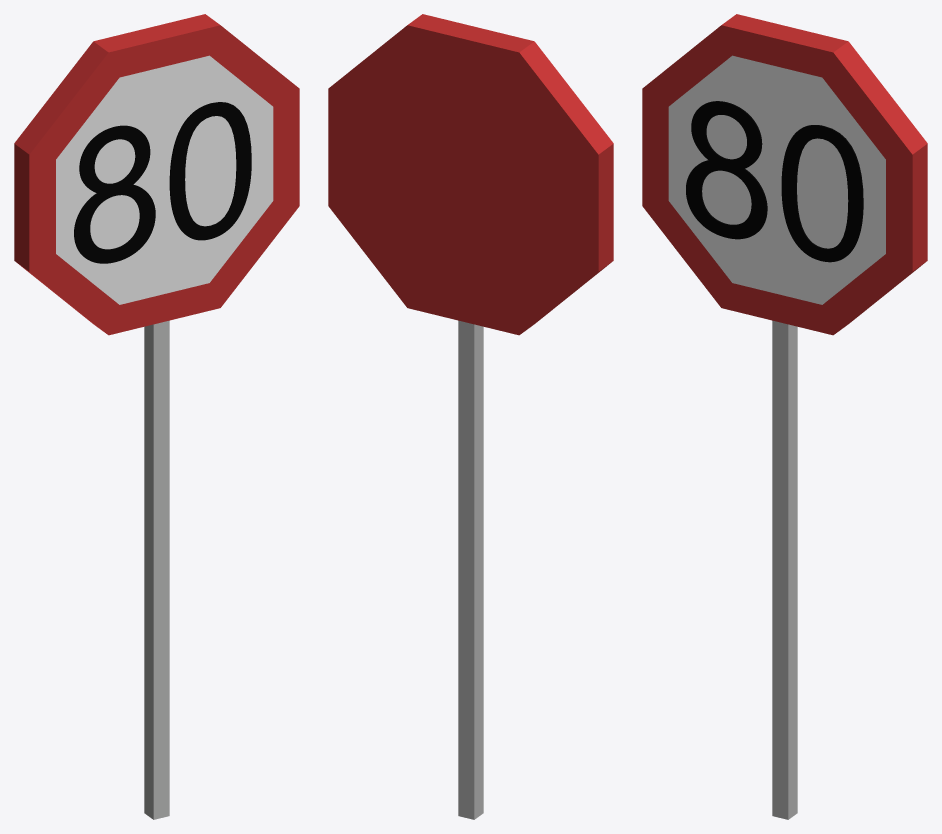
File: 80_speed_sign.fbx
3 renders of one model, left to right at view 1: azimuth 30°, elevation 25°; view 2: azimuth 150°, elevation 25°; view 3: azimuth 330°, elevation 25°, orthographic.
Visible parts, largest first — view 1: 80_speed_sign; view 2: 80_speed_sign; view 3: 80_speed_sign.
Boxes of the visible parts, x1,y1,x2,y2 form: 80_speed_sign: [14, 14, 299, 819]; 80_speed_sign: [328, 14, 613, 819]; 80_speed_sign: [642, 14, 927, 819].
Bounding box in the file's own units: 1.19 × 3.29 × 0.1231.
Materials: 2 (1 with a texture image).
